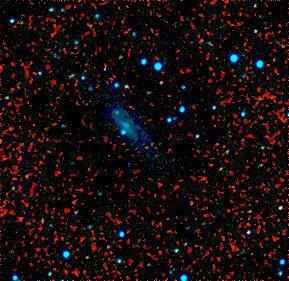star: (101, 98, 131, 128)
